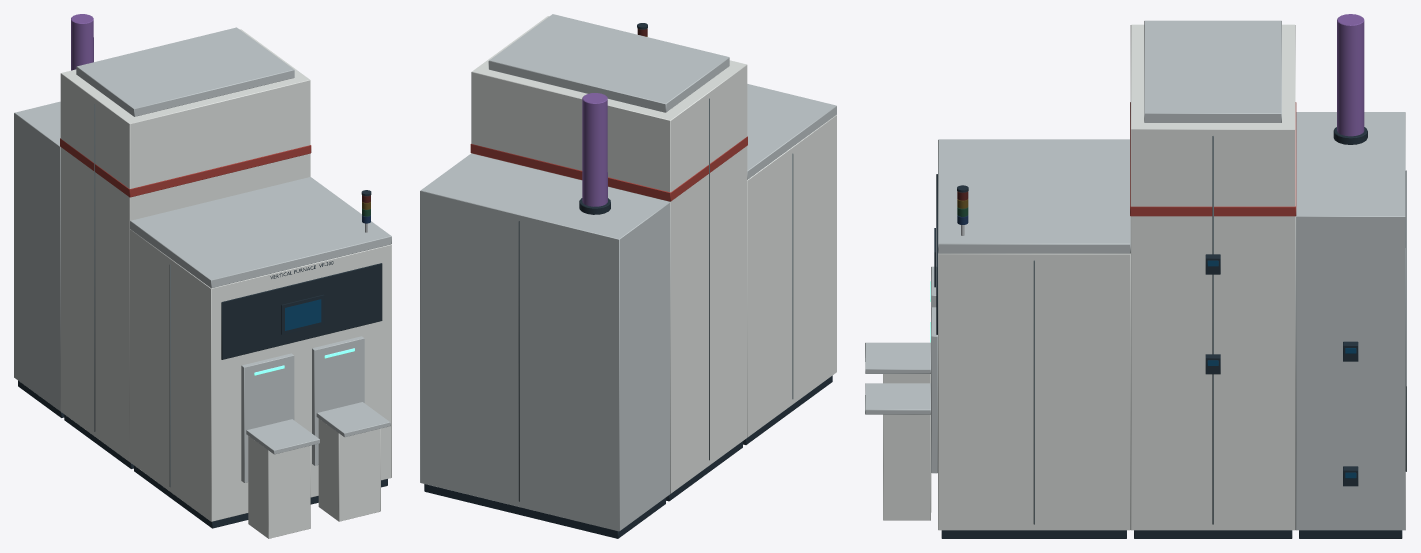
The model's file is fab1-tool-furnace.glb.
3 views of the same model, side by side, from view 1: azimuth 30°, elevation 25°; view 2: azimuth 150°, elevation 25°; view 3: azimuth 270°, elevation 25° (orthographic). The views are drawn at different scales.
Parts seen in each view (by area): view 1: TOOL_FRN_LoadStationBody, TOOL_FRN_TowerBody, TOOL_FRN_LoadPorts, TOOL_FRN_GasCabinetBody, TOOL_HMI_Screen, TOOL_FRN_Operator; view 2: TOOL_FRN_GasCabinetBody, TOOL_FRN_TowerBody, TOOL_FRN_LoadStationBody; view 3: TOOL_FRN_TowerBody, TOOL_FRN_LoadStationBody, TOOL_FRN_GasCabinetBody, TOOL_FRN_LoadPorts.
Part boxes in pixels (x1=…): TOOL_FRN_LoadStationBody: x1=130, y1=177, x2=391, y2=528; TOOL_FRN_TowerBody: x1=60, y1=27, x2=311, y2=468; TOOL_FRN_LoadPorts: x1=241, y1=336, x2=390, y2=538; TOOL_FRN_GasCabinetBody: x1=14, y1=14, x2=93, y2=417; TOOL_HMI_Screen: x1=285, y1=299, x2=321, y2=330; TOOL_FRN_Operator: x1=281, y1=294, x2=324, y2=334; TOOL_FRN_GasCabinetBody: x1=420, y1=93, x2=670, y2=538; TOOL_FRN_TowerBody: x1=470, y1=14, x2=747, y2=501; TOOL_FRN_LoadStationBody: x1=743, y1=84, x2=836, y2=444; TOOL_FRN_TowerBody: x1=1130, y1=20, x2=1296, y2=538; TOOL_FRN_LoadStationBody: x1=936, y1=139, x2=1130, y2=538; TOOL_FRN_GasCabinetBody: x1=1295, y1=14, x2=1406, y2=538; TOOL_FRN_LoadPorts: x1=865, y1=266, x2=937, y2=520.
Bounding box in the file's own units: 1.92 × 3.55 × 3.94.
Materials: 3 (1 with a texture image).
